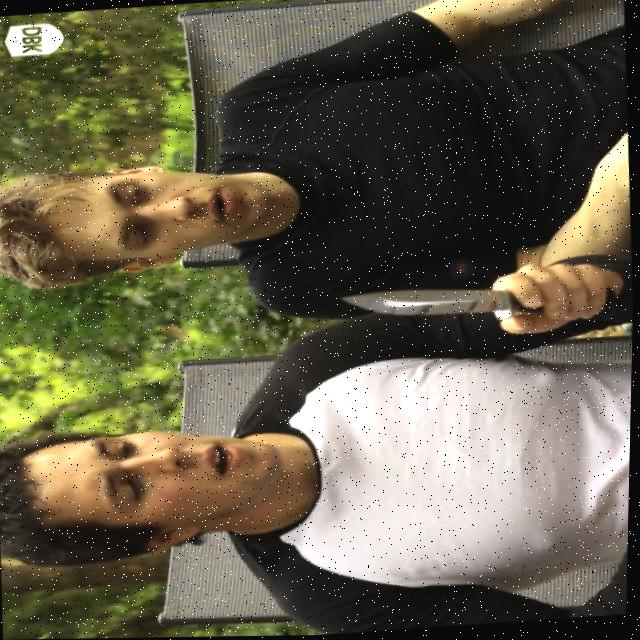knife: (330, 280, 517, 335)
